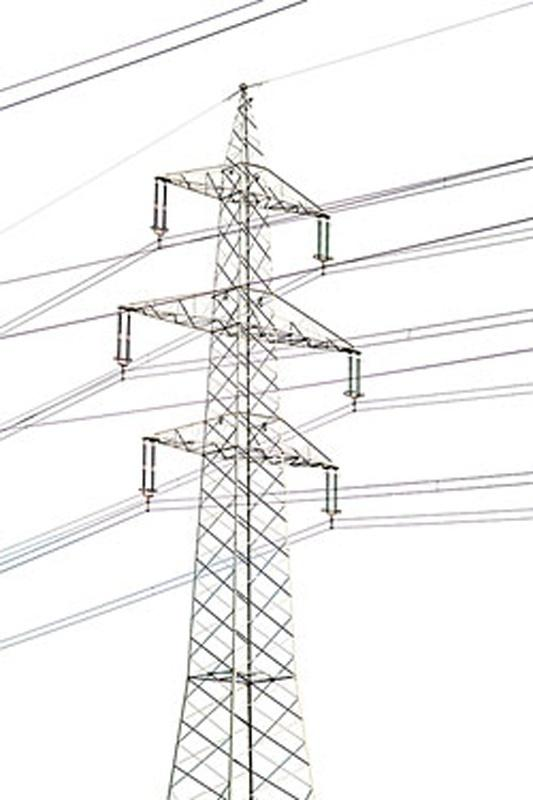power_tower: (131, 82, 361, 735)
